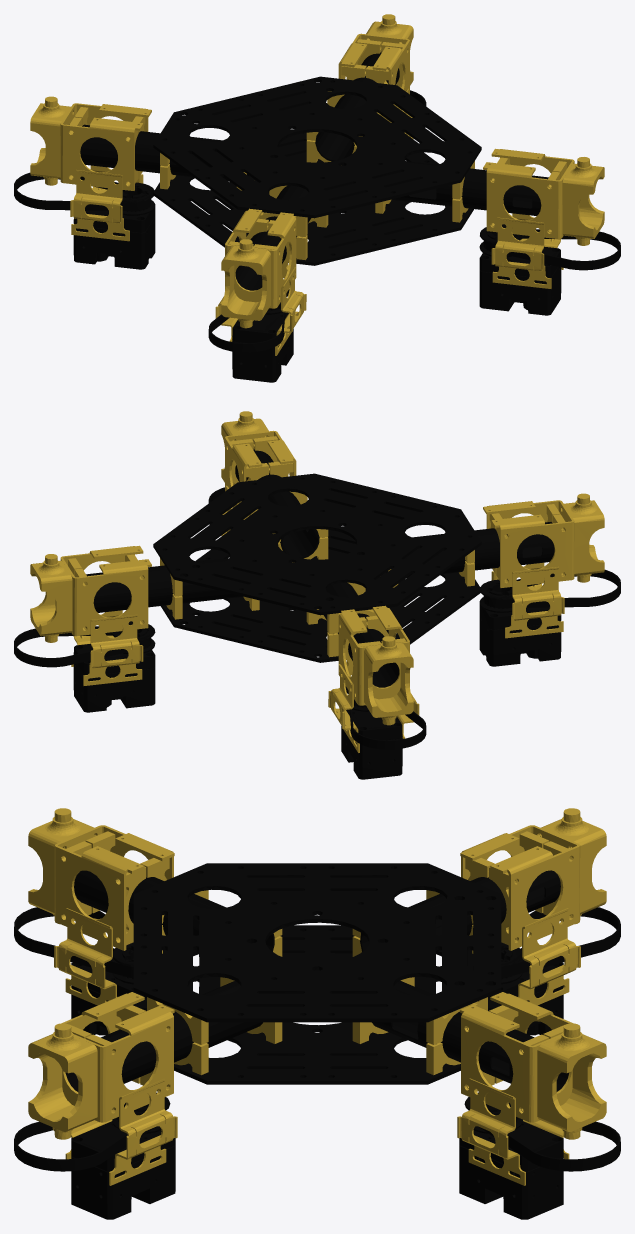
The model's file is center_link.dae.
The picture shows the model from 3 angles, top to bottom: view 1: azimuth 30°, elevation 25°; view 2: azimuth 150°, elevation 25°; view 3: azimuth 270°, elevation 25°; orthographic projection. The views are drawn at different scales.
Parts seen in each view (by area): view 1: center_link_black, center_link_gold; view 2: center_link_black, center_link_gold; view 3: center_link_black, center_link_gold.
Boxes of the visible parts, <box> form: center_link_black: <box>14,51,620,382</box>; center_link_gold: <box>30,14,604,355</box>; center_link_black: <box>14,448,620,779</box>; center_link_gold: <box>30,411,604,752</box>; center_link_black: <box>14,863,620,1219</box>; center_link_gold: <box>28,808,606,1185</box>.
Size of the model in its own units: 0.2918 by 0.2918 by 0.1043.
